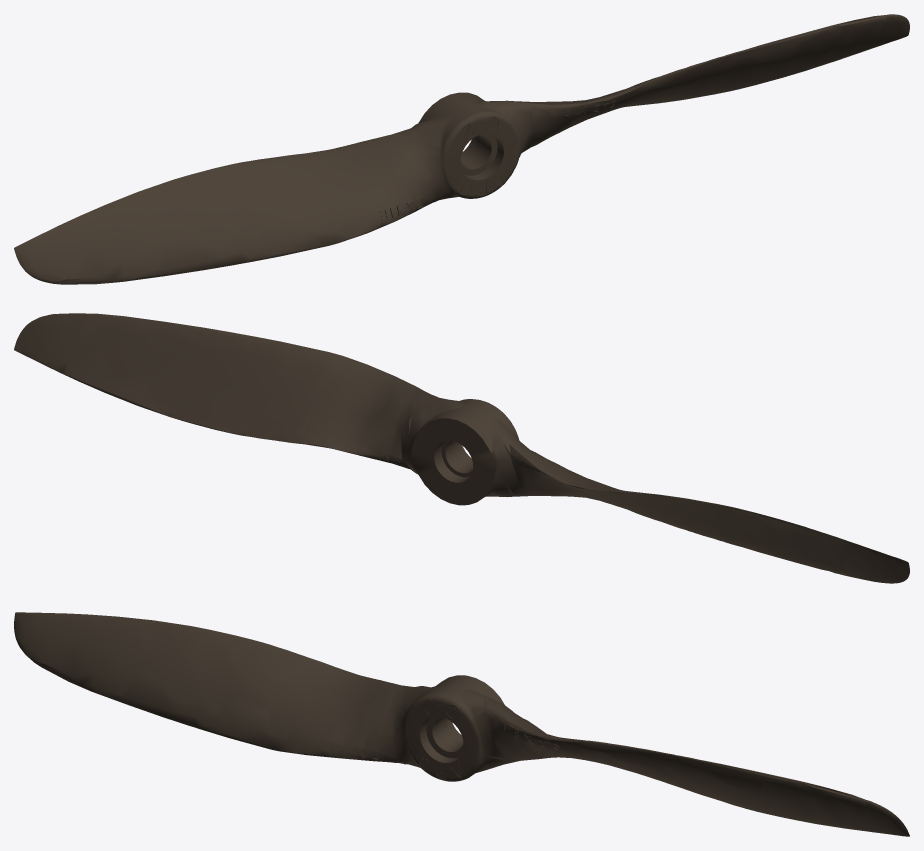
File: 7inch_bi.glb
3 renders of one model, top to bottom at view 1: azimuth 30°, elevation 25°; view 2: azimuth 150°, elevation 25°; view 3: azimuth 330°, elevation 25°, orthographic.
Parts seen in each view (by area): view 1: APC 7x11E v1; view 2: APC 7x11E v1; view 3: APC 7x11E v1.
Boxes of the visible parts, bbox=[...] form: APC 7x11E v1: bbox=[14, 14, 909, 284]; APC 7x11E v1: bbox=[14, 313, 909, 583]; APC 7x11E v1: bbox=[14, 612, 909, 836].
Bounding box in the file's own units: 0.178 × 0.0171 × 0.0158.
